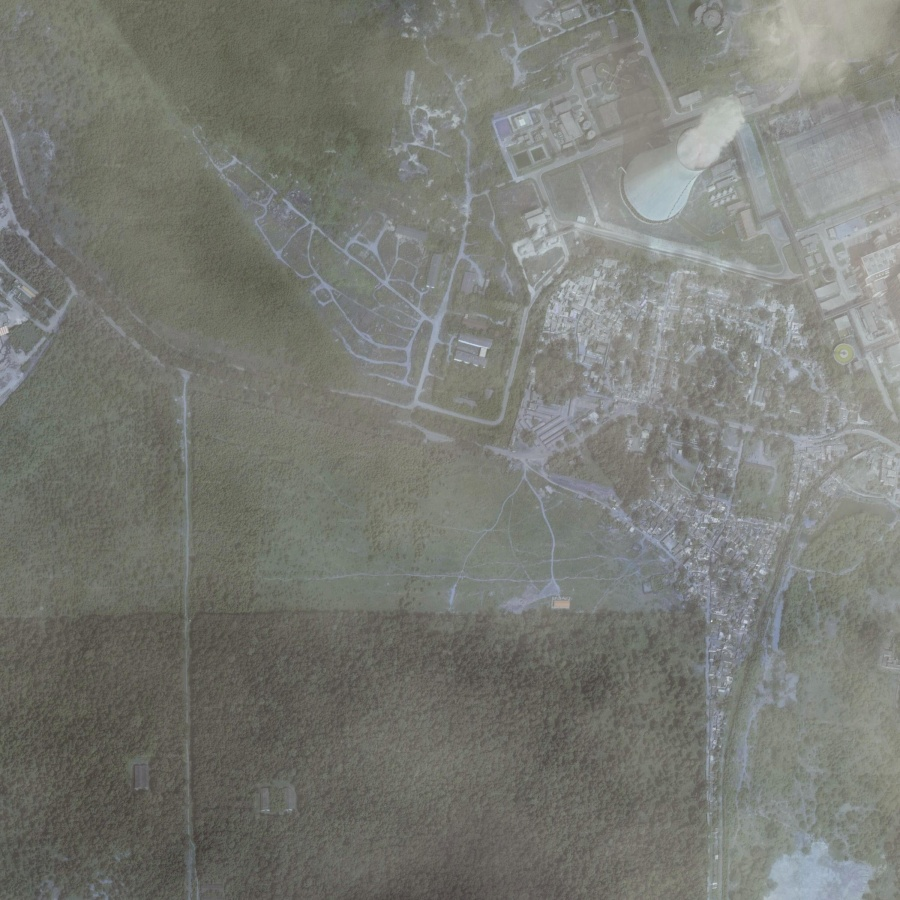PowerPlant: (613, 56, 768, 267)
